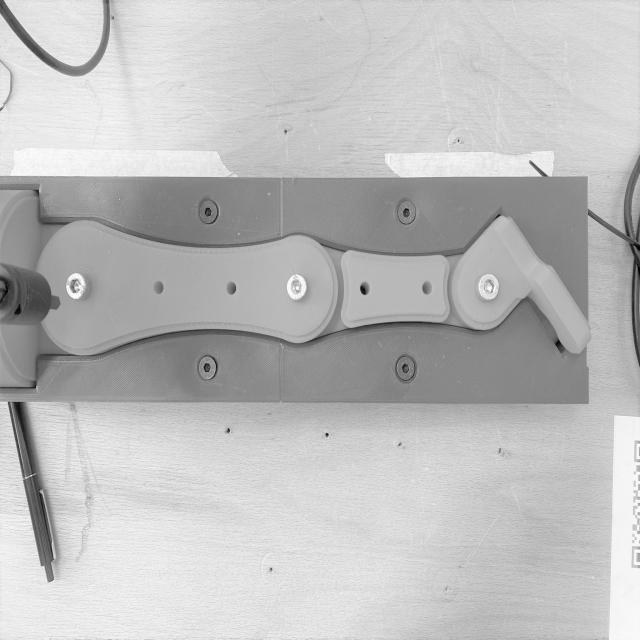HexScrew: (479, 274, 500, 300), (396, 356, 416, 382), (66, 272, 85, 299), (287, 274, 306, 300), (198, 355, 217, 381), (397, 201, 416, 225), (200, 200, 217, 223)
